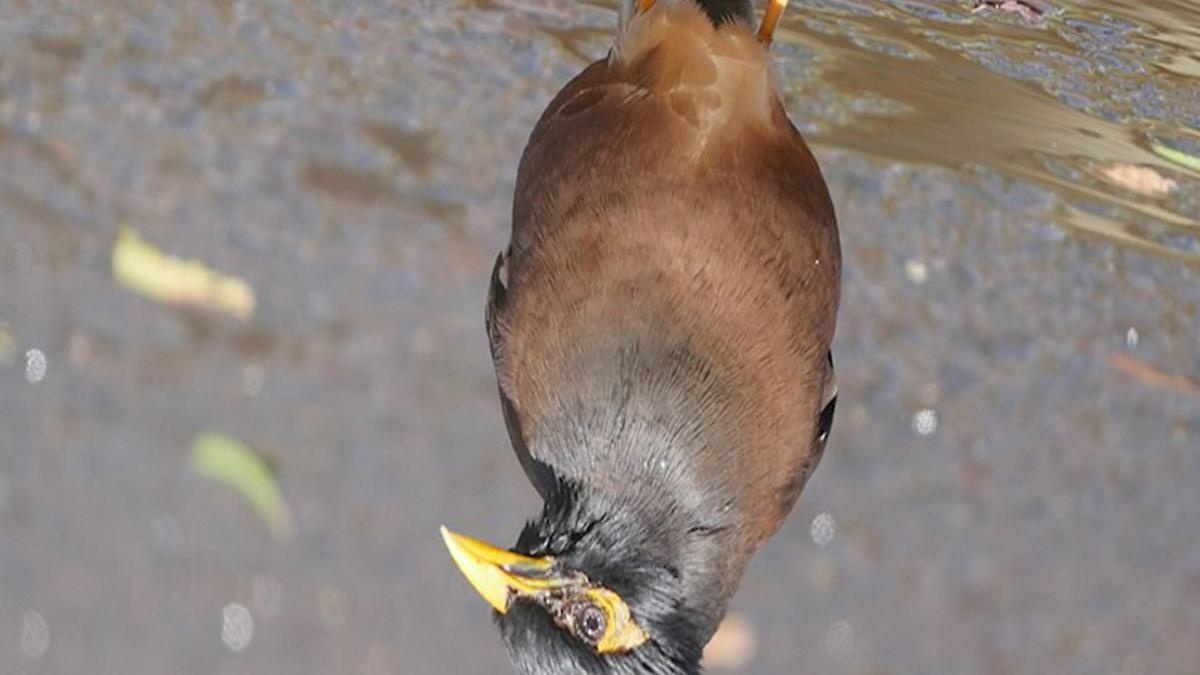myna: (379, 41, 863, 675)
